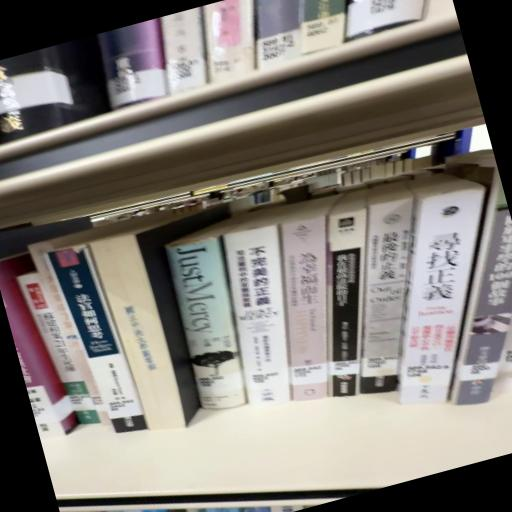backward: (88, 207, 230, 431)
book: (255, 210, 374, 408), (45, 238, 151, 449)
